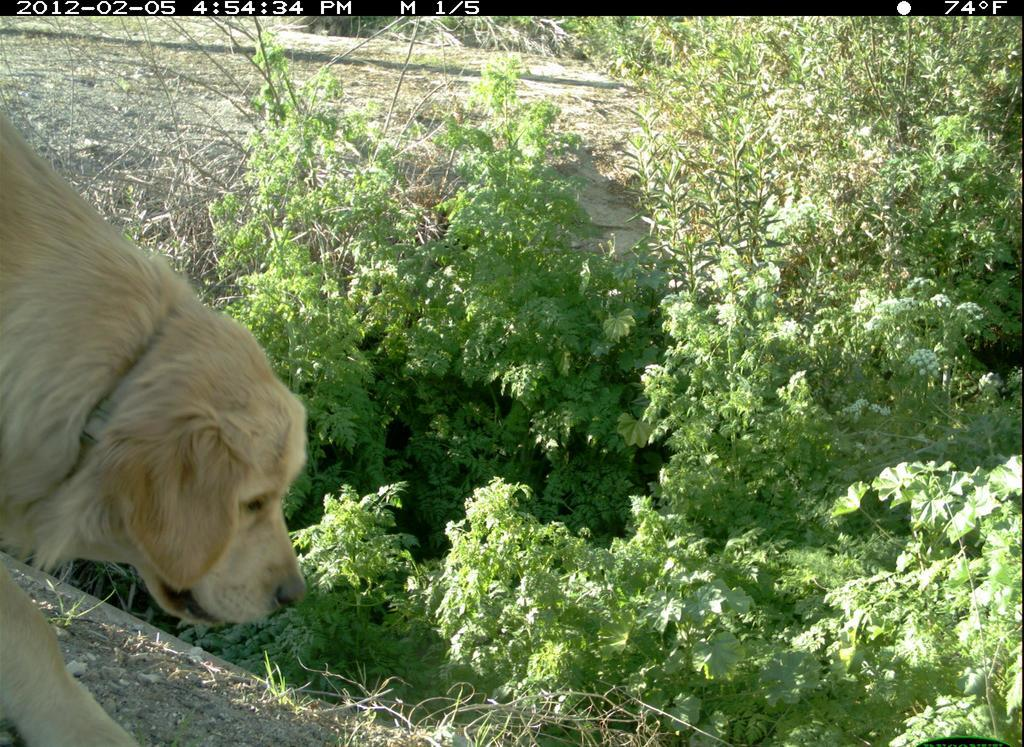dog: (1, 98, 347, 747)
